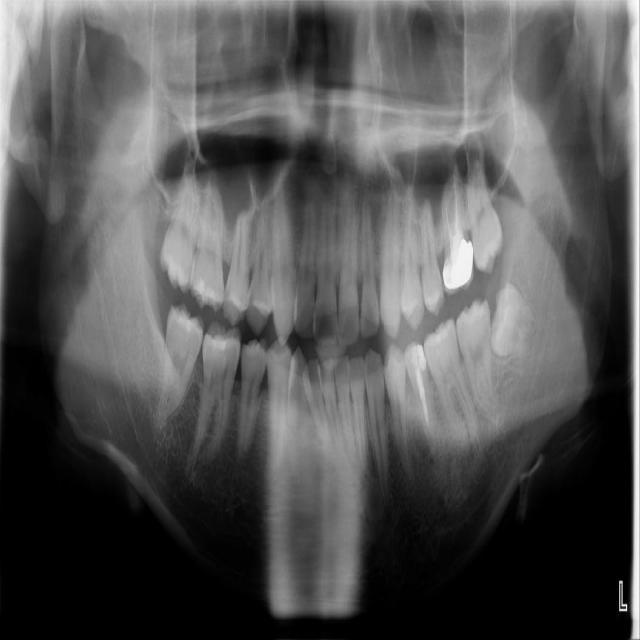52: (197, 319, 245, 381), (190, 253, 225, 312), (441, 238, 474, 297), (404, 340, 427, 385)
73: (437, 163, 471, 258), (409, 367, 442, 458), (620, 620, 626, 629)
BioHorizons Implant: (461, 148, 507, 276)
Biomet 3i Implant: (484, 280, 544, 362)
Blue Sky Bio Implant: (453, 297, 500, 417)
Caries: (156, 158, 207, 294)
Implant: (153, 301, 208, 431)
